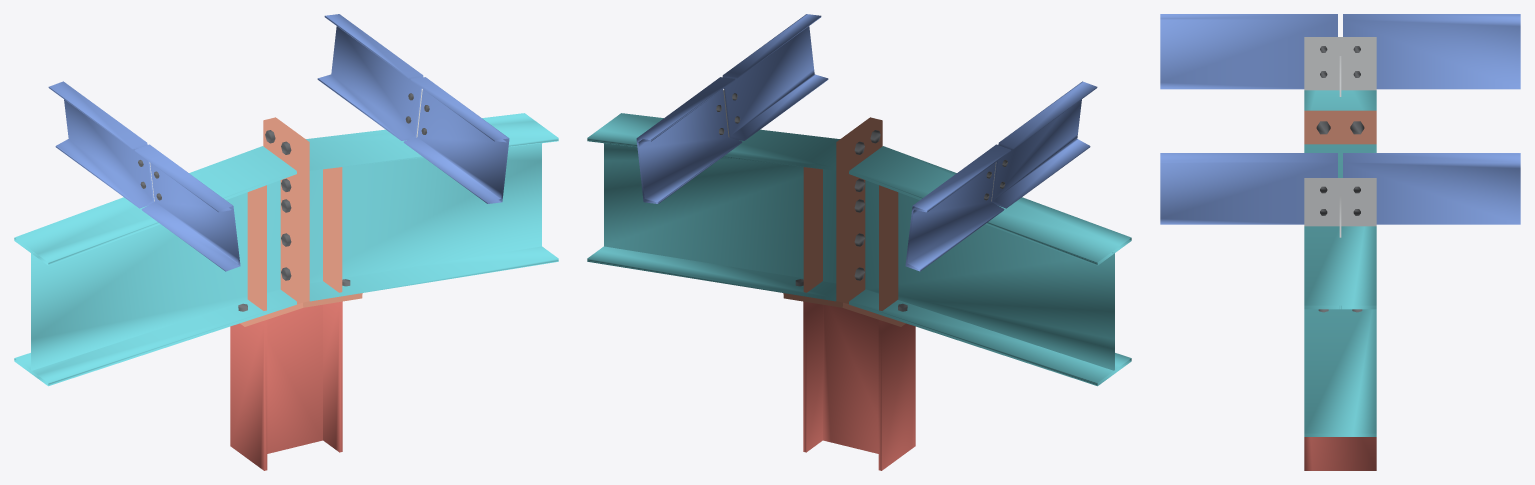
The model's file is ridge.glb.
3 views of the same model, side by side, from view 1: azimuth 30°, elevation 25°; view 2: azimuth 150°, elevation 25°; view 3: azimuth 270°, elevation 25° (orthographic). The views are drawn at different scales.
Parts seen in each view (by area): view 1: m5, m4, m2, plate, bolt; view 2: m5, m4, m2, plate, bolt; view 3: m4, m5, cleat, m2, plate, bolt.
Part boxes in pixels (left/top/right/bottom): m5: left=14, top=113, right=558, bottom=386; m4: left=48, top=14, right=509, bottom=271; m2: left=230, top=301, right=342, bottom=470; plate: left=240, top=117, right=362, bottom=326; bolt: left=138, top=93, right=429, bottom=311; m5: left=587, top=113, right=1131, bottom=386; m4: left=636, top=14, right=1097, bottom=271; m2: left=803, top=301, right=915, bottom=470; plate: left=783, top=117, right=905, bottom=326; bolt: left=716, top=93, right=1007, bottom=311; m4: left=1160, top=14, right=1520, bottom=224; m5: left=1304, top=90, right=1376, bottom=436; cleat: left=1304, top=37, right=1376, bottom=237; m2: left=1304, top=437, right=1376, bottom=470; plate: left=1304, top=110, right=1376, bottom=144; bolt: left=1316, top=46, right=1364, bottom=312.
Size of the model in its own units: 2.6 by 1.66 by 1.5.
